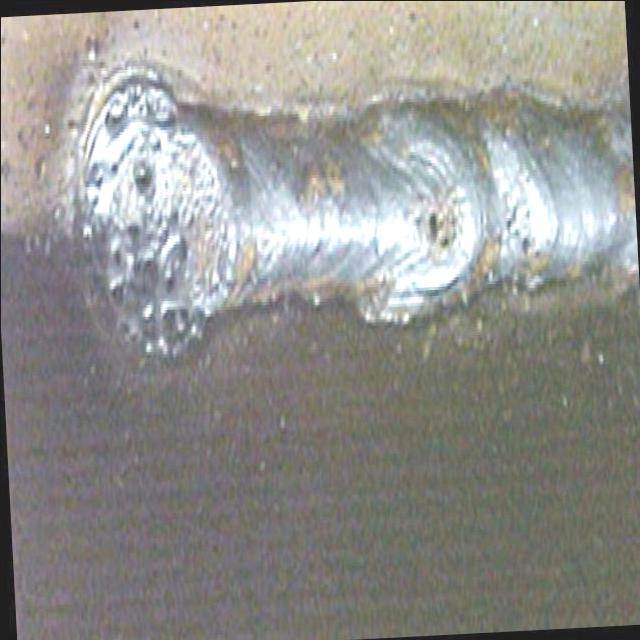defect: (103, 157, 203, 352), (496, 198, 537, 273), (423, 197, 451, 256)
